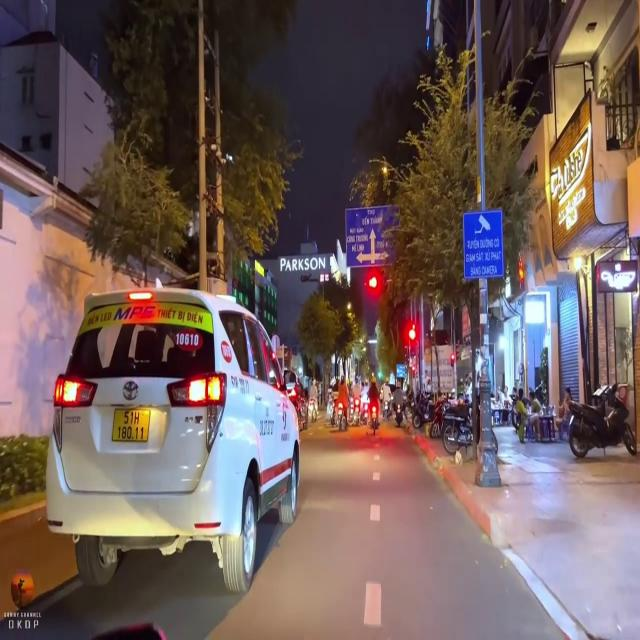bien_vang: (110, 405, 150, 447)
